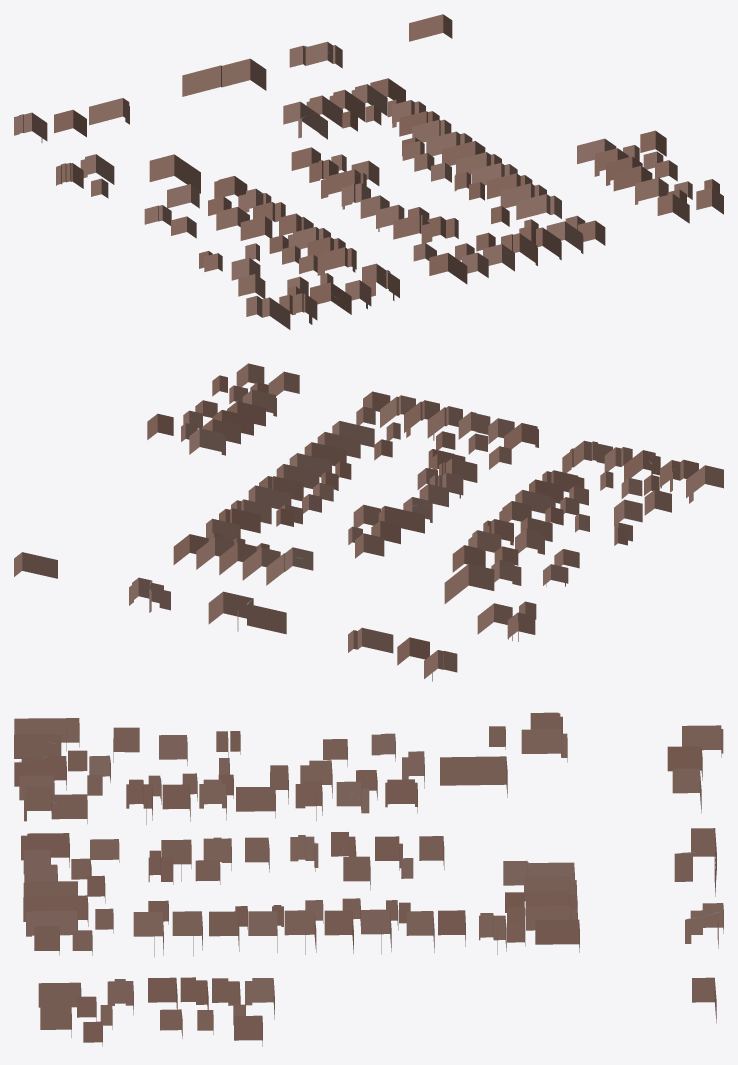
File: c_1640_17824_buildings_residential.glb
3 views of the same model, one above another, from view 1: azimuth 30°, elevation 25°; view 2: azimuth 150°, elevation 25°; view 3: azimuth 270°, elevation 25° (orthographic). The views are drawn at different scales.
Parts seen in each view (by area): view 1: geometry_0; view 2: geometry_0; view 3: geometry_0.
Part boxes in pixels (x1,y1,x2,y2): geometry_0: [14, 14, 723, 329]; geometry_0: [14, 363, 723, 681]; geometry_0: [14, 712, 723, 1046].
Size of the model in its own units: 260 by 11.08 by 249.
